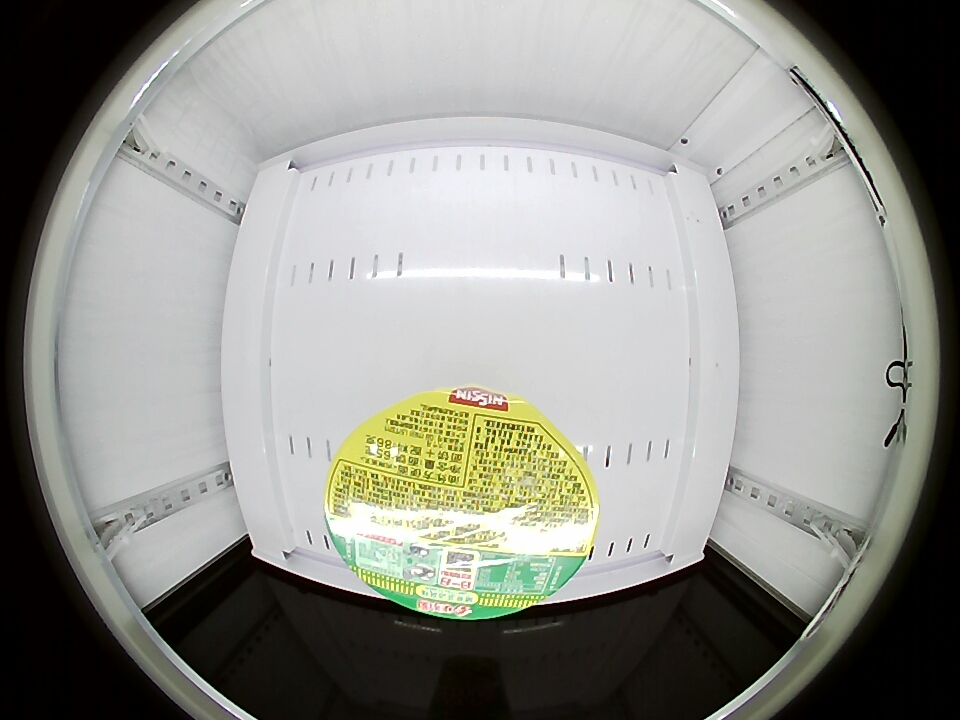heweidao2: (326, 387, 600, 621)
